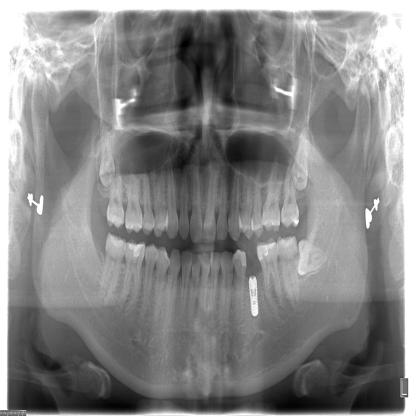ITI: (247, 272, 264, 320)
